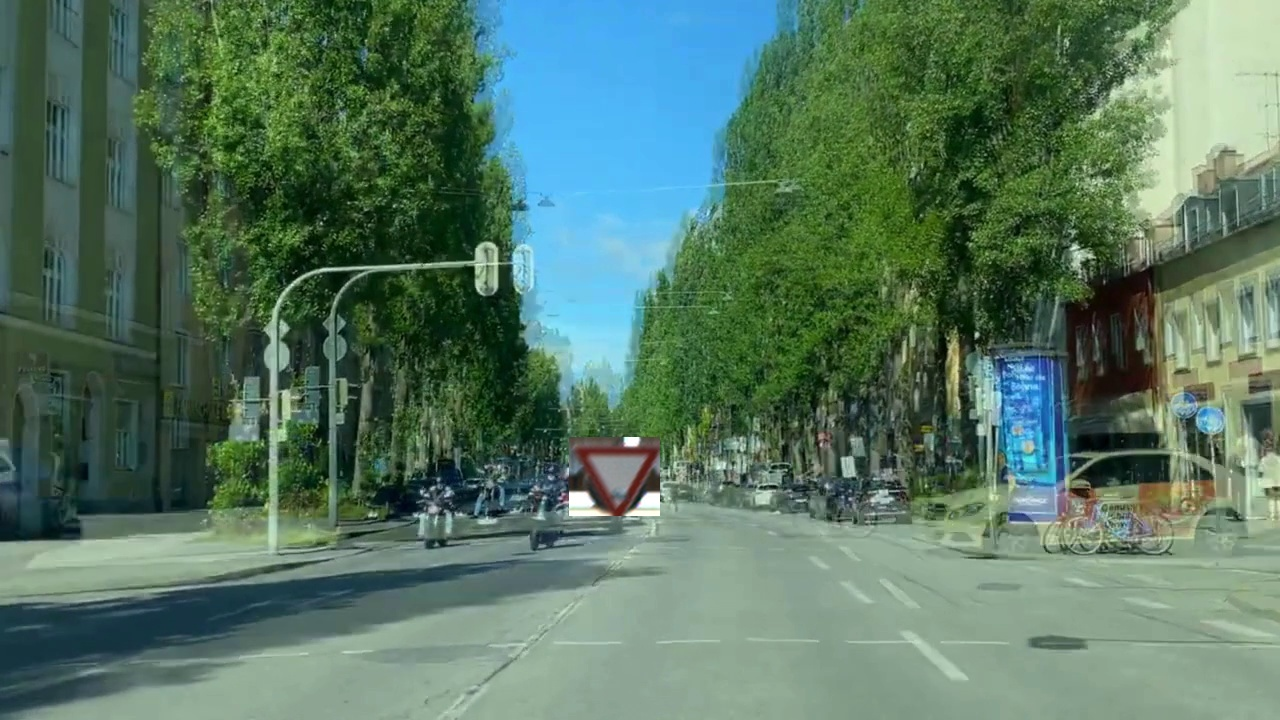Yield: (569, 437, 660, 516)
